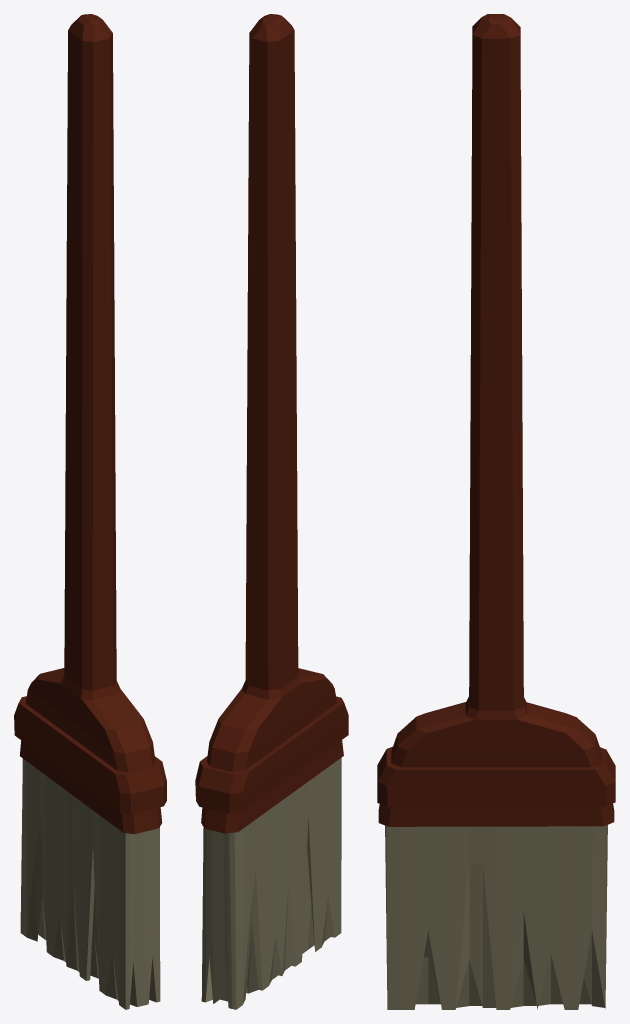
File: paintbrush_thick.glb
3 views of the same model, side by side, from view 1: azimuth 30°, elevation 25°; view 2: azimuth 150°, elevation 25°; view 3: azimuth 270°, elevation 25° (orthographic). The views are drawn at different scales.
Parts seen in each view (by area): view 1: paintbrush_thick; view 2: paintbrush_thick; view 3: paintbrush_thick.
Part boxes in pixels (x1,y1,x2,y2): paintbrush_thick: [14, 14, 166, 1009]; paintbrush_thick: [195, 14, 348, 1009]; paintbrush_thick: [377, 14, 615, 1009].
Size of the model in its own units: 0.0242 by 0.4584 by 0.1006.
